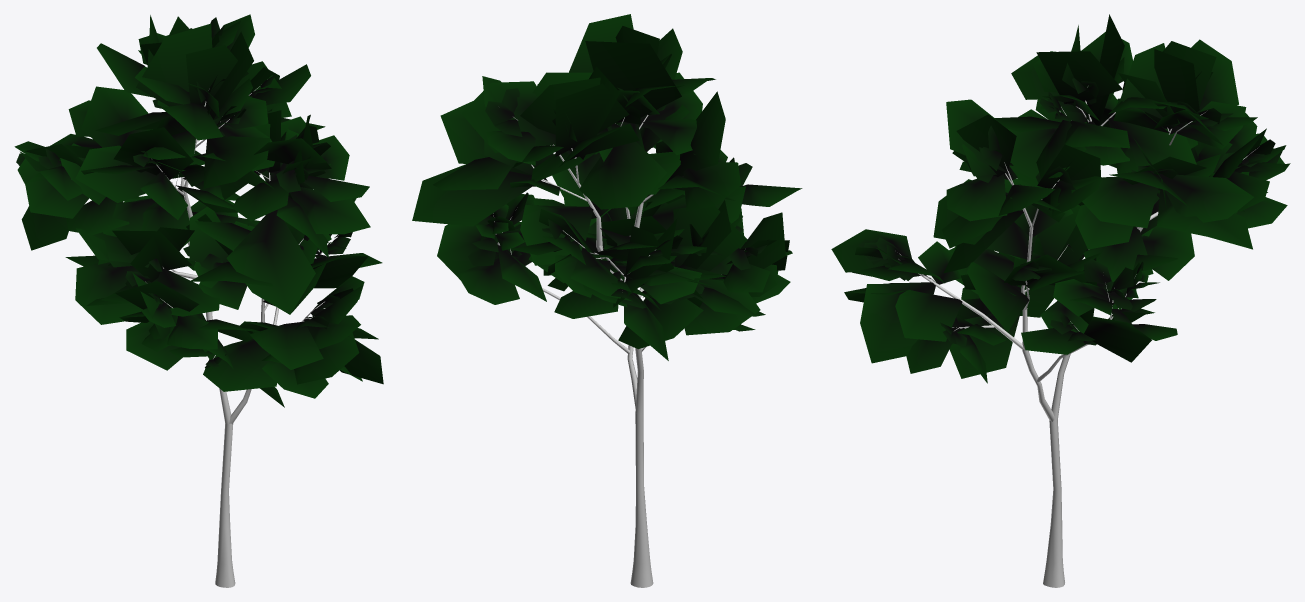
Rendered from Jatoba_Tree1_afsTREE_xlprl.dae.
3 views of the same model, side by side, from view 1: azimuth 30°, elevation 25°; view 2: azimuth 150°, elevation 25°; view 3: azimuth 270°, elevation 25° (orthographic). The views are drawn at different scales.
Parts seen in each view (by area): view 1: leaf_104, leaf_180, leaf_025, leaf_160, leaf_001, leaf_125, trunk, leaf_140, leaf_116, leaf_014, leaf_198, leaf_181 (+46 smaller); view 2: leaf_180, leaf_221, leaf_100, trunk, leaf_187, leaf_173, leaf_198, leaf_119, leaf_052, leaf_139, leaf_026, leaf_113 (+33 smaller); view 3: leaf_060, leaf_113, leaf_147, trunk, leaf_059, leaf_229, leaf_179, leaf_100, leaf_115, leaf_106, leaf_009, leaf_183 (+45 smaller).
Boxes of the visible parts, box(x1,y1,x2,y2) form: leaf_104: box(226, 209, 315, 314); leaf_180: box(136, 23, 212, 106); leaf_025: box(75, 262, 143, 324); leaf_160: box(203, 136, 270, 188); leaf_001: box(203, 339, 276, 391); leaf_125: box(81, 86, 148, 147); trunk: box(183, 101, 235, 587); leaf_140: box(75, 145, 172, 202); leaf_116: box(290, 187, 370, 234); leaf_014: box(249, 322, 323, 369); leaf_198: box(113, 127, 193, 179); leaf_181: box(186, 45, 248, 105); leaf_180: box(585, 41, 681, 117); leaf_221: box(579, 141, 667, 209); leaf_100: box(412, 164, 541, 226); trunk: box(624, 203, 653, 587); leaf_187: box(555, 83, 629, 156); leaf_173: box(461, 81, 555, 152); leaf_198: box(666, 91, 725, 181); leaf_119: box(520, 204, 593, 265); leaf_052: box(673, 206, 747, 271); leaf_139: box(683, 162, 740, 211); leaf_026: box(684, 279, 760, 335); leaf_113: box(433, 157, 511, 190); leaf_060: box(860, 282, 935, 363); leaf_113: box(1157, 174, 1253, 222); leaf_147: box(1082, 177, 1158, 228); trunk: box(1043, 100, 1091, 587); leaf_059: box(895, 290, 962, 341); leaf_229: box(1108, 117, 1196, 173); leaf_179: box(1036, 51, 1122, 103); leaf_100: box(1157, 189, 1252, 249); leaf_115: box(946, 174, 1007, 221); leaf_106: box(967, 262, 1029, 331); leaf_009: box(949, 313, 1020, 378); leaf_183: box(1154, 49, 1199, 111).
Size of the model in its own units: 16.81 by 22.95 by 30.47.
